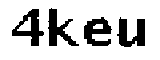4: (10, 7, 46, 48)
e: (80, 15, 114, 53)
k: (46, 6, 81, 50)
u: (115, 16, 151, 54)
